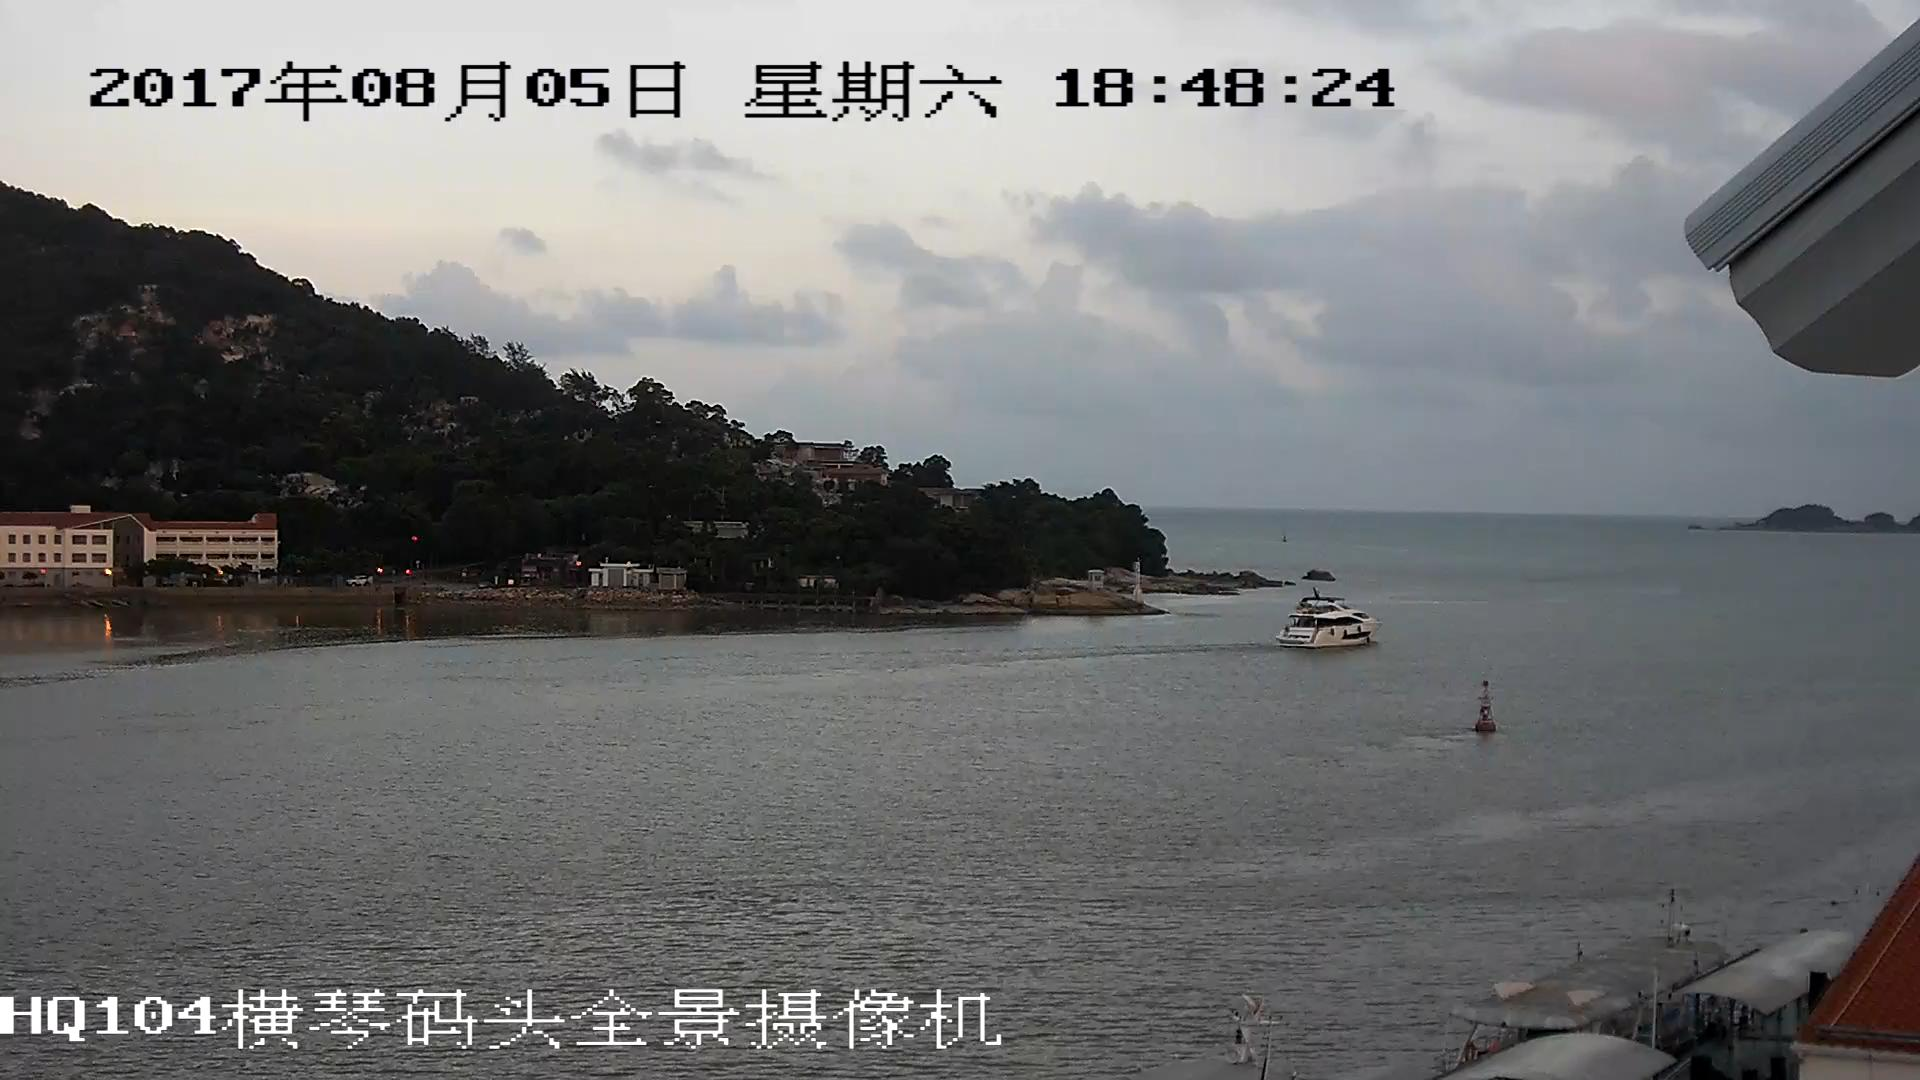passenger ship: (1273, 595, 1382, 651)
